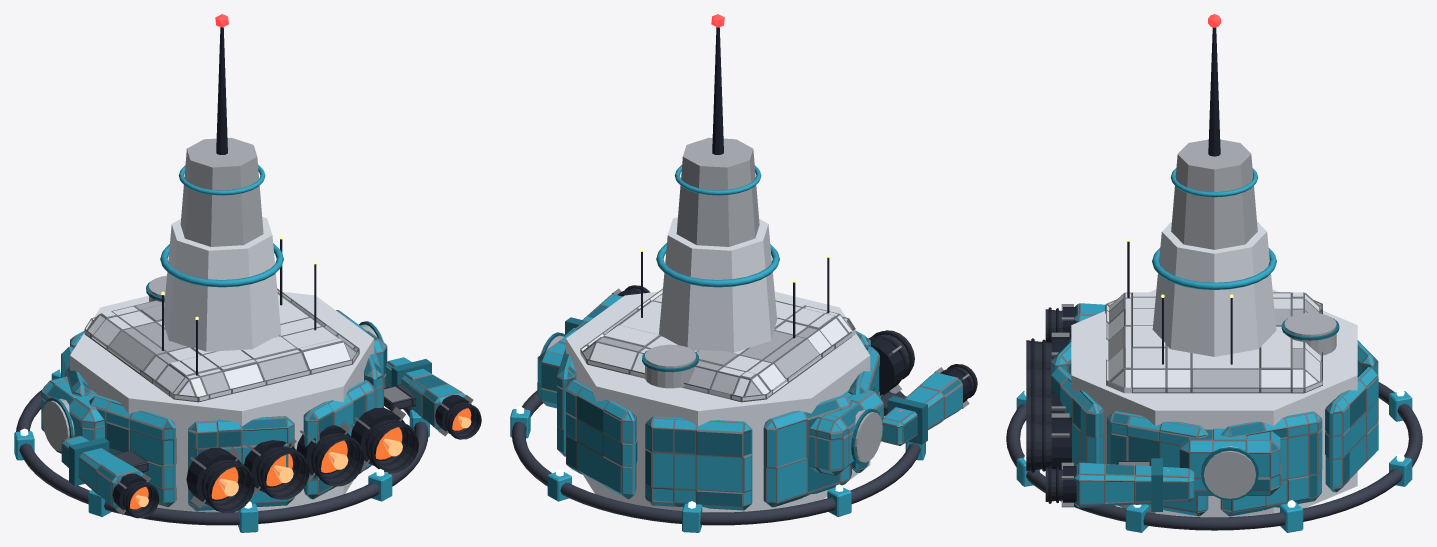
The model's file is warden.glb.
The picture shows the model from 3 angles, left to right: view 1: azimuth 30°, elevation 25°; view 2: azimuth 150°, elevation 25°; view 3: azimuth 270°, elevation 25°; orthographic projection.
Parts seen in each view (by area): view 1: warden_mesh; view 2: warden_mesh; view 3: warden_mesh.
Part boxes in pixels (box(x1,y1,x2,y2)): warden_mesh: box(14, 14, 481, 532); warden_mesh: box(510, 14, 977, 532); warden_mesh: box(1006, 14, 1422, 532).
Size of the model in its own units: 12.27 by 15.18 by 12.27.
